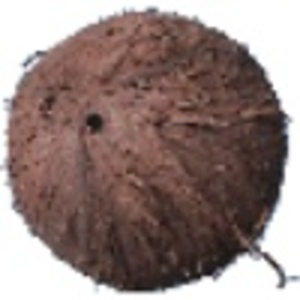coco: (5, 7, 300, 293)
